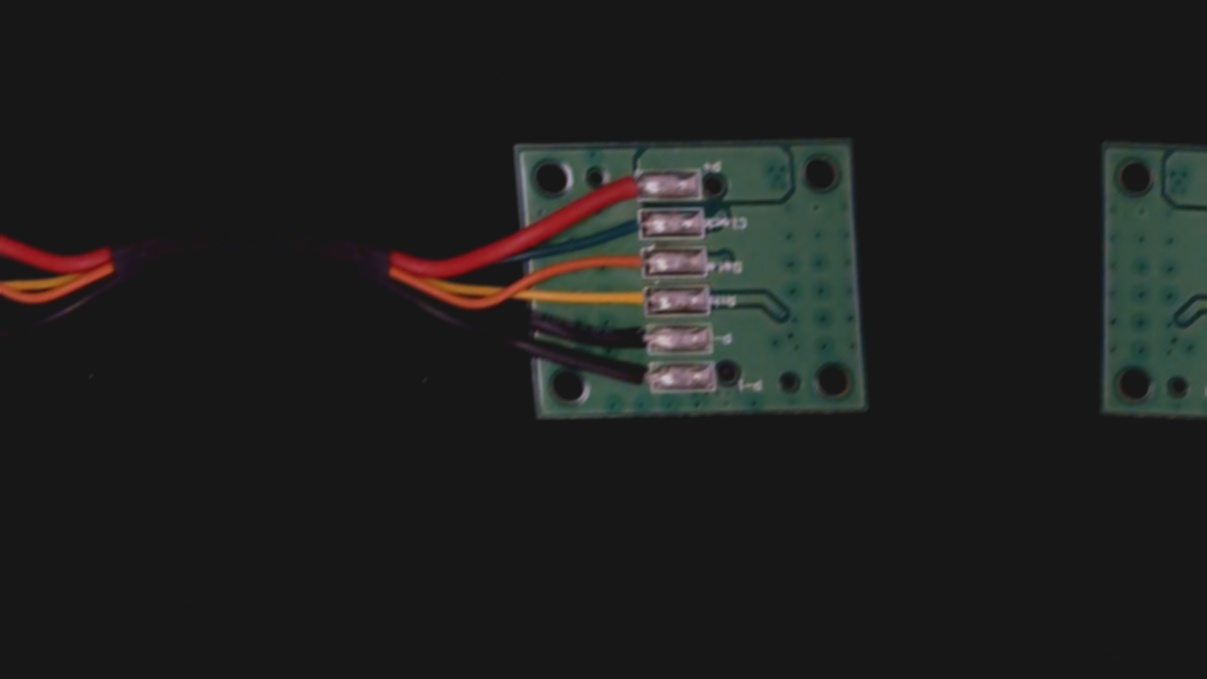Black: (608, 324, 666, 354)
Black1: (602, 363, 667, 391)
Green: (597, 209, 662, 240)
Orange: (593, 247, 662, 277)
Red: (599, 170, 659, 202)
Yellow: (598, 287, 665, 314)
